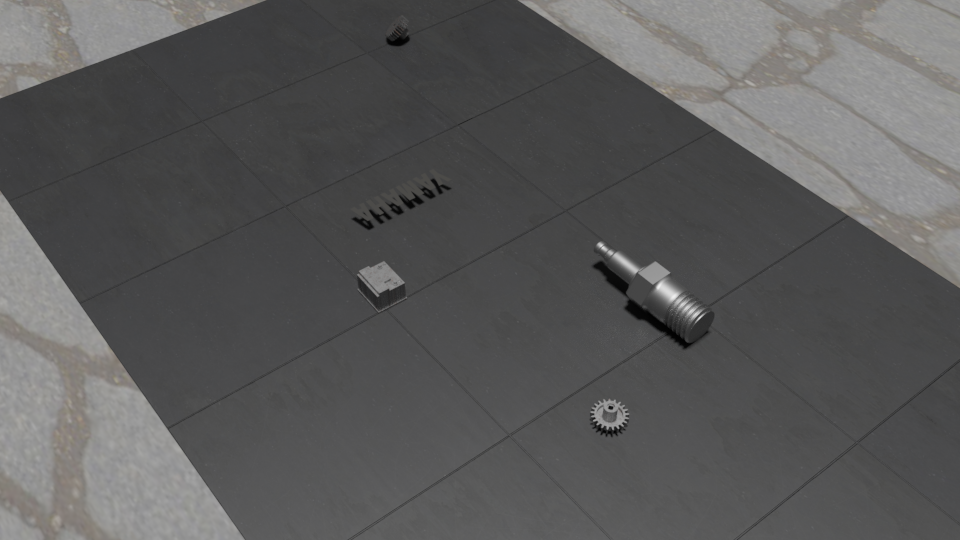yamaha_letters: (349, 168, 452, 221)
